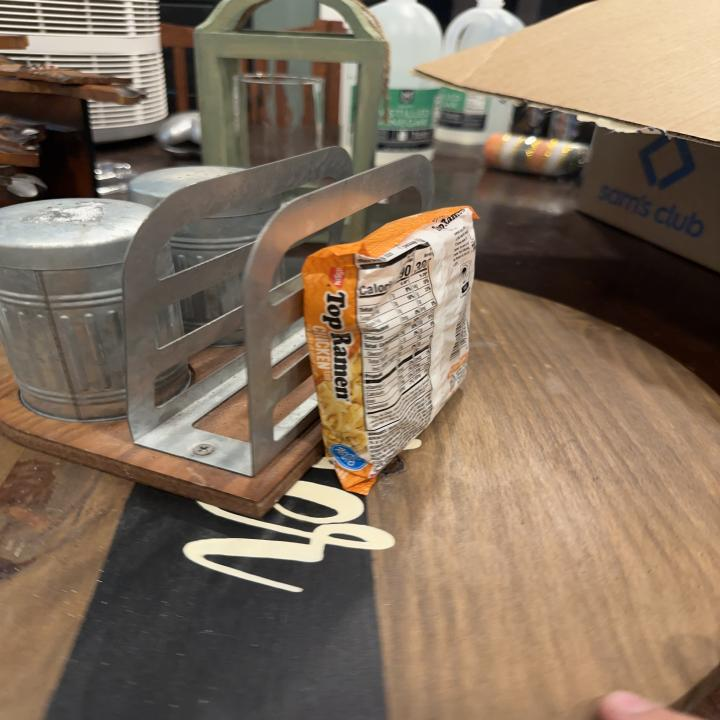Ramen: (300, 202, 481, 496)
